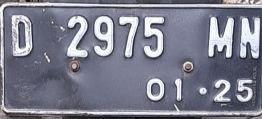2: (66, 12, 90, 58)
5: (142, 12, 168, 60)
7: (118, 12, 142, 62)
9: (90, 12, 117, 59)
D: (8, 12, 36, 62)
M: (206, 12, 236, 60)
N: (237, 12, 261, 61)
Plate: (2, 5, 261, 114)
